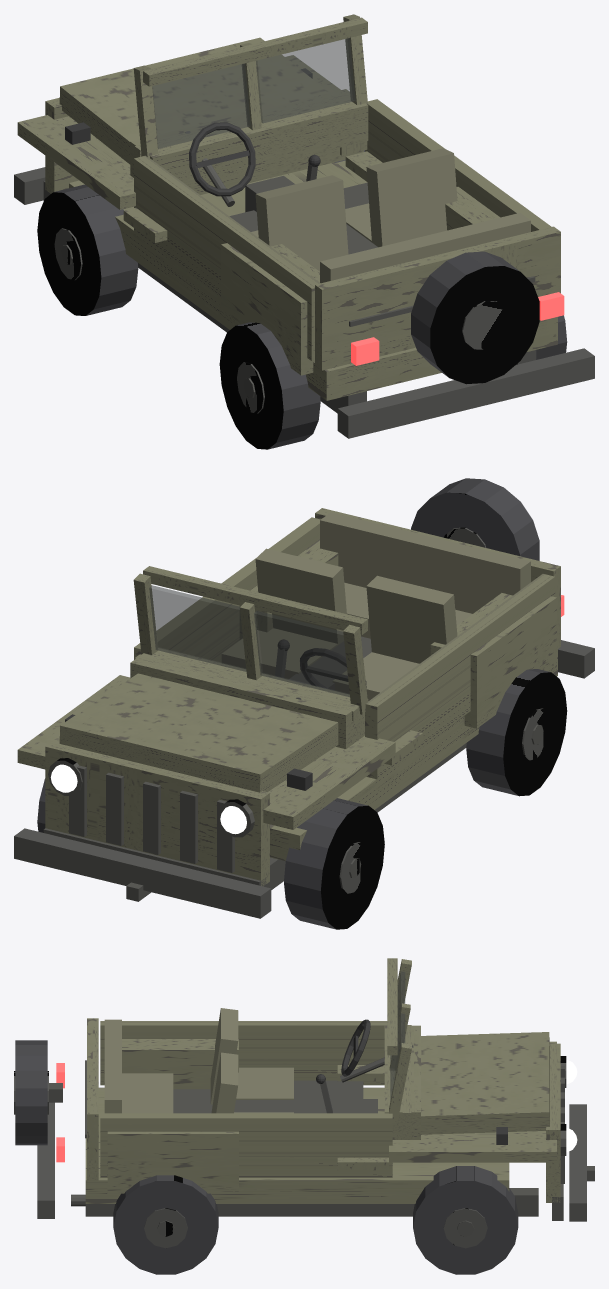
Rendered from jeep.glb.
The picture shows the model from 3 angles, top to bottom: view 1: azimuth 30°, elevation 25°; view 2: azimuth 150°, elevation 25°; view 3: azimuth 270°, elevation 25°; orthographic projection. The views are drawn at different scales.
Visible parts, largest first — view 1: Hood, RearPanel, SpareTire, TubWall_L, DashSlab, FloorTub, Tire_FL, RearBumper, Tire_RL, SeatBack_P, WheelBox_L, SeatBack_D (+27 smaller); view 2: Hood, GrillePanel, BenchBack, TubWall_L, Tire_FL, FrontBumper, Tire_RL, WheelBox_L, DashSlab, SpareTire, SeatBack_D, ShieldGlass_R (+31 smaller); view 3: Hood, TubWall_R, TubWall_L, FloorTub, Tire_FR, WheelBox_R, Tire_RR, FenderF_R, WheelBox_L, ChassisR, SpareTire, DashSlab (+22 smaller).
Part boxes in pixels (bbox=[...]): Hood: bbox=[59, 37, 329, 164]; RearPanel: bbox=[315, 226, 560, 370]; SpareTire: bbox=[411, 251, 539, 384]; TubWall_L: bbox=[134, 155, 320, 360]; DashSlab: bbox=[130, 89, 368, 184]; FloorTub: bbox=[69, 160, 557, 400]; Tire_FL: bbox=[37, 184, 138, 315]; RearBumper: bbox=[337, 348, 594, 438]; Tire_RL: bbox=[219, 322, 320, 449]; SeatBack_P: bbox=[366, 148, 457, 247]; WheelBox_L: bbox=[221, 235, 319, 375]; SeatBack_D: bbox=[255, 175, 348, 271]; Hood: bbox=[59, 673, 338, 792]; GrillePanel: bbox=[45, 740, 269, 886]; BenchBack: bbox=[320, 512, 530, 613]; TubWall_L: bbox=[365, 574, 555, 779]; Tire_FL: bbox=[284, 798, 384, 929]; FrontBumper: bbox=[14, 828, 271, 918]; Tire_RL: bbox=[466, 669, 567, 796]; WheelBox_L: bbox=[430, 593, 556, 728]; DashSlab: bbox=[130, 648, 368, 748]; SpareTire: bbox=[411, 478, 539, 560]; SeatBack_D: bbox=[366, 575, 457, 663]; ShieldGlass_R: bbox=[149, 585, 246, 671]; Hood: bbox=[421, 1032, 549, 1134]; TubWall_R: bbox=[100, 1113, 392, 1177]; TubWall_L: bbox=[100, 1021, 387, 1085]; FloorTub: bbox=[85, 1087, 509, 1203]; Tire_FR: bbox=[413, 1166, 518, 1274]; WheelBox_R: bbox=[107, 1131, 238, 1193]; Tire_RR: bbox=[113, 1175, 218, 1274]; FenderF_R: bbox=[389, 1131, 556, 1162]; WheelBox_L: bbox=[122, 1039, 238, 1089]; ChassisR: bbox=[85, 1188, 538, 1216]; SpareTire: bbox=[15, 1040, 47, 1145]; DashSlab: bbox=[384, 1025, 420, 1139].
Size of the model in its own units: 1.88 by 1.63 by 3.97.
9 materials, 9 textured.
